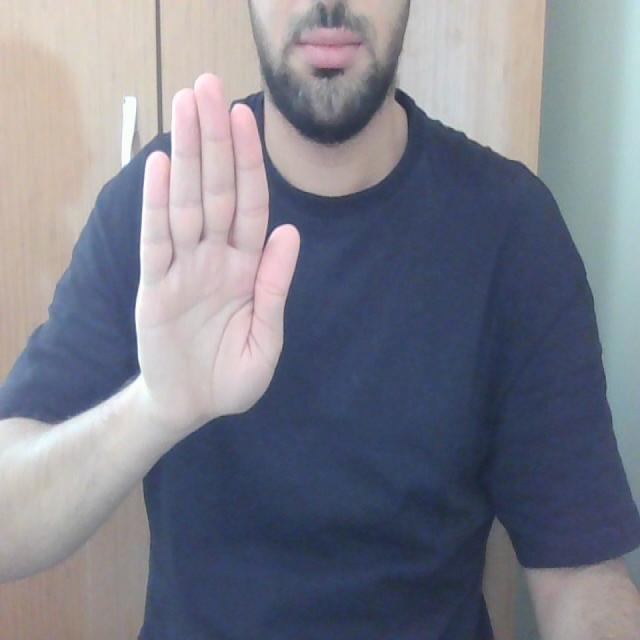Dur: (117, 72, 318, 427)
